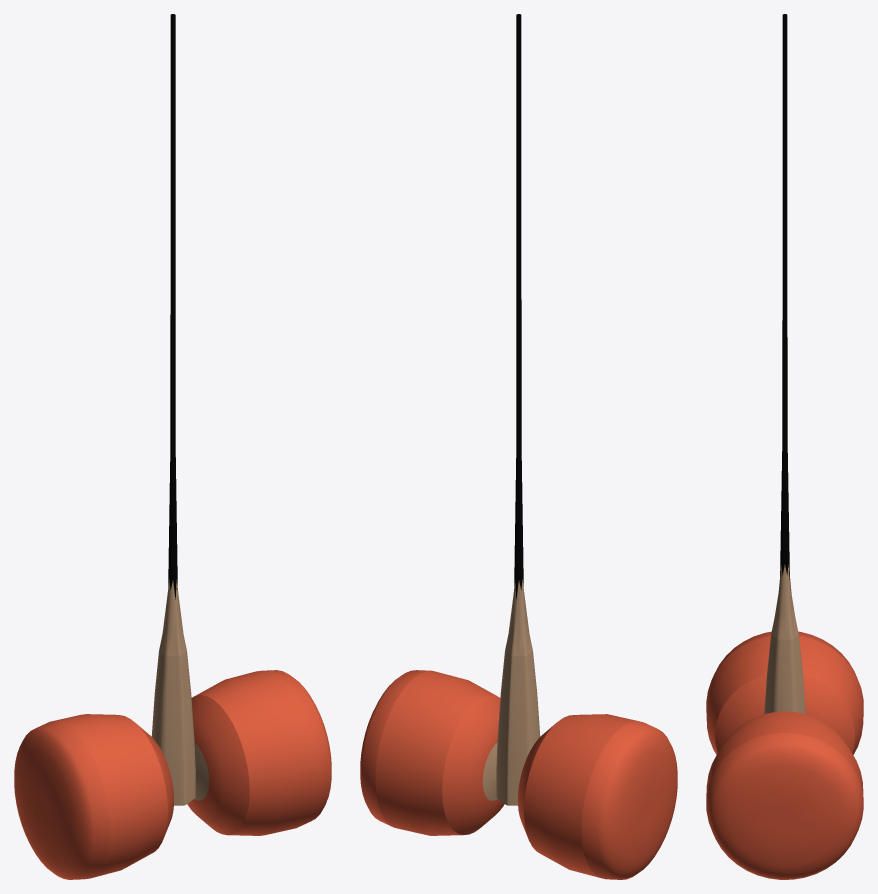
The model's file is Hammer.fbx.
3 renders of one model, left to right at view 1: azimuth 30°, elevation 25°; view 2: azimuth 150°, elevation 25°; view 3: azimuth 270°, elevation 25°, orthographic. The views are drawn at different scales.
Parts seen in each view (by area): view 1: Cylinder.001; view 2: Cylinder.001; view 3: Cylinder.001.
Part boxes in pixels (box(x1,y1,x2,y2)): Cylinder.001: box(14, 14, 331, 879); Cylinder.001: box(360, 14, 677, 879); Cylinder.001: box(706, 14, 863, 879).
Size of the model in its own units: 834 by 2520 by 443.
